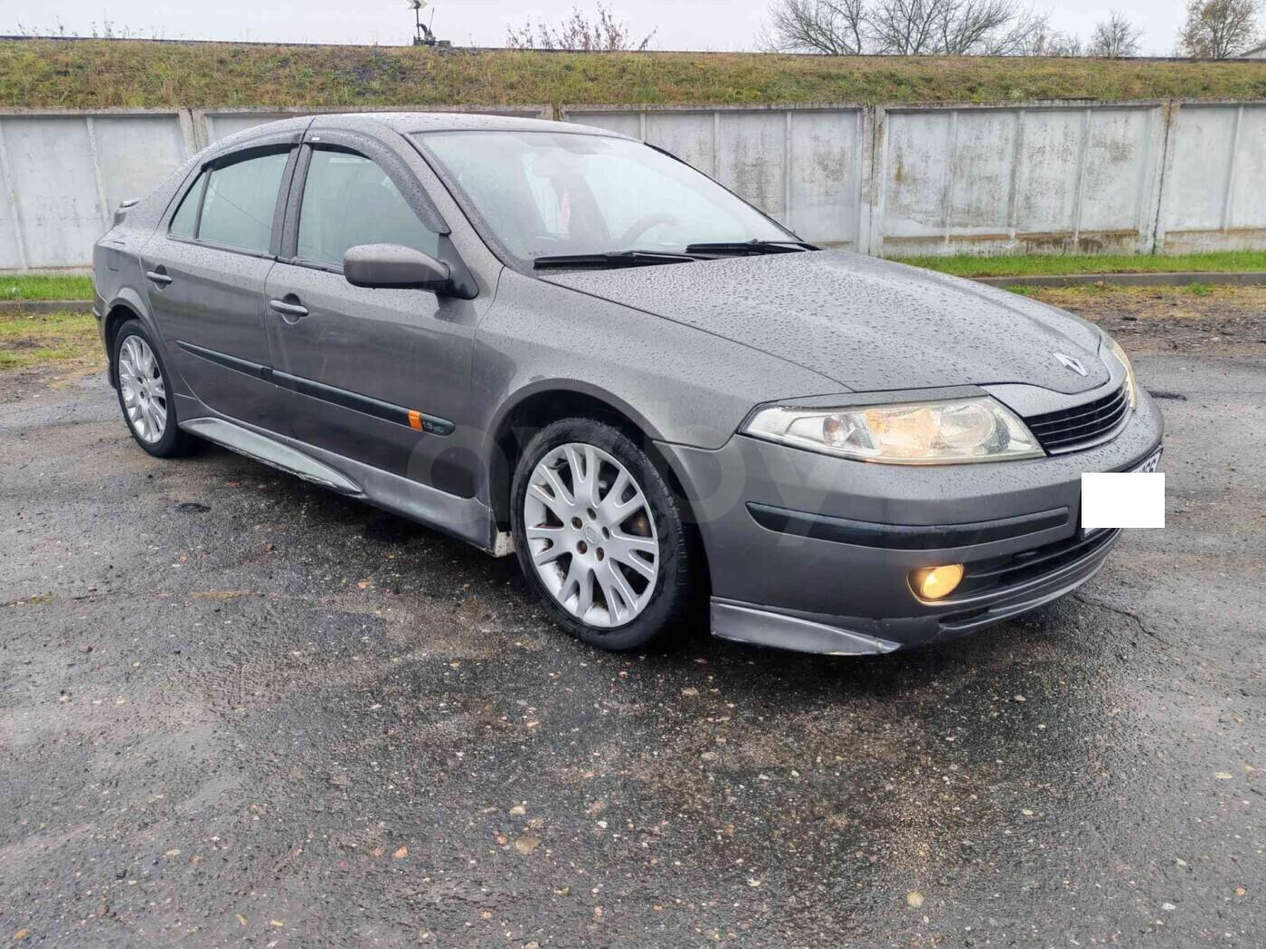Laguna_2001-2005: (92, 112, 1163, 654)
